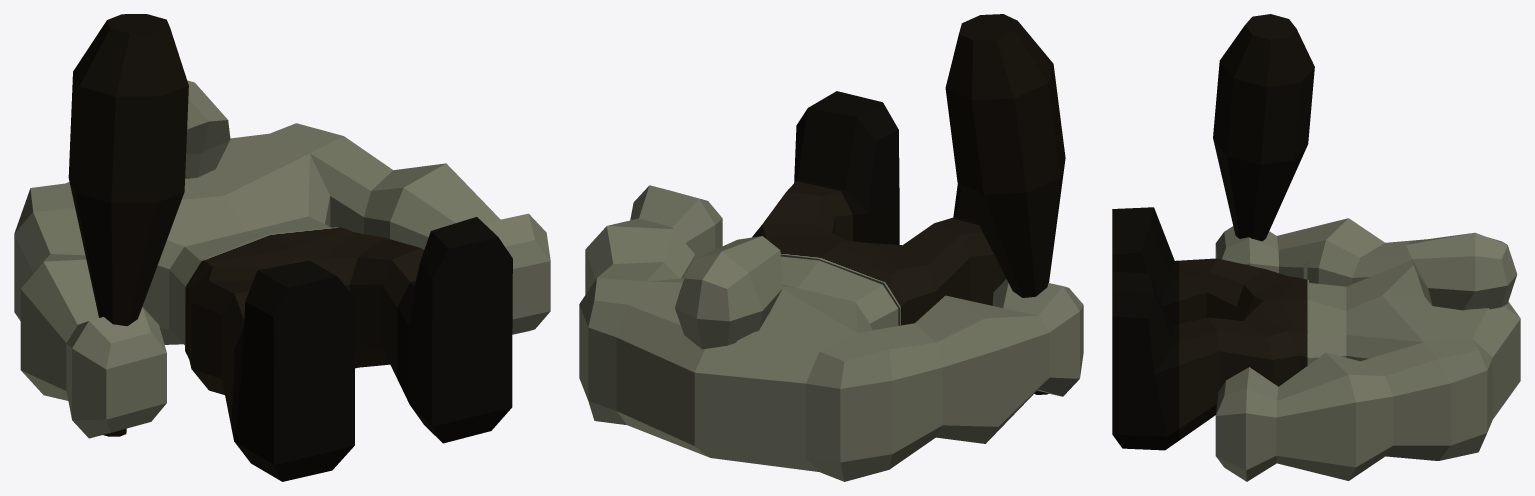
File: ork_base.fbx
3 renders of one model, left to right at view 1: azimuth 30°, elevation 25°; view 2: azimuth 150°, elevation 25°; view 3: azimuth 270°, elevation 25°, orthographic. The views are drawn at different scales.
Visible parts, largest first — view 1: Cylinder.001; view 2: Cylinder.001; view 3: Cylinder.001.
Part boxes in pixels (<box>): Cylinder.001: <box>14,14,550,481</box>; Cylinder.001: <box>579,14,1083,481</box>; Cylinder.001: <box>1112,14,1520,481</box>.
Size of the model in its own units: 695 by 742 by 610.
1 material, 1 textured.
